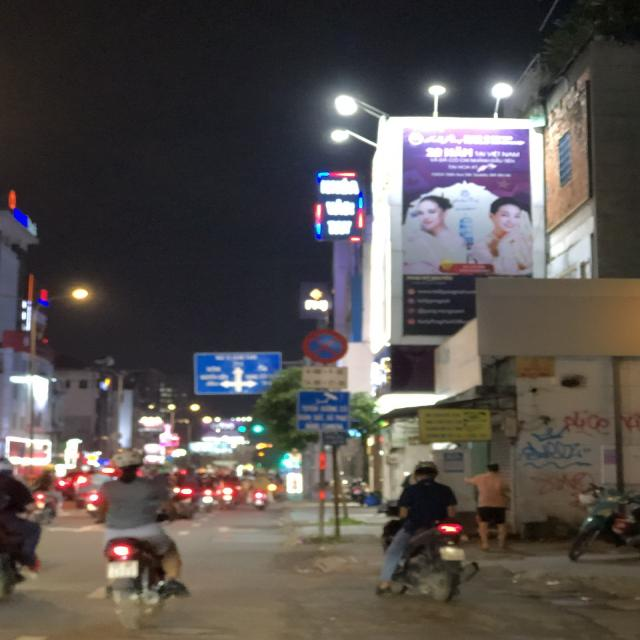Bien bao cam dung xe va do xe: (299, 325, 350, 365)
